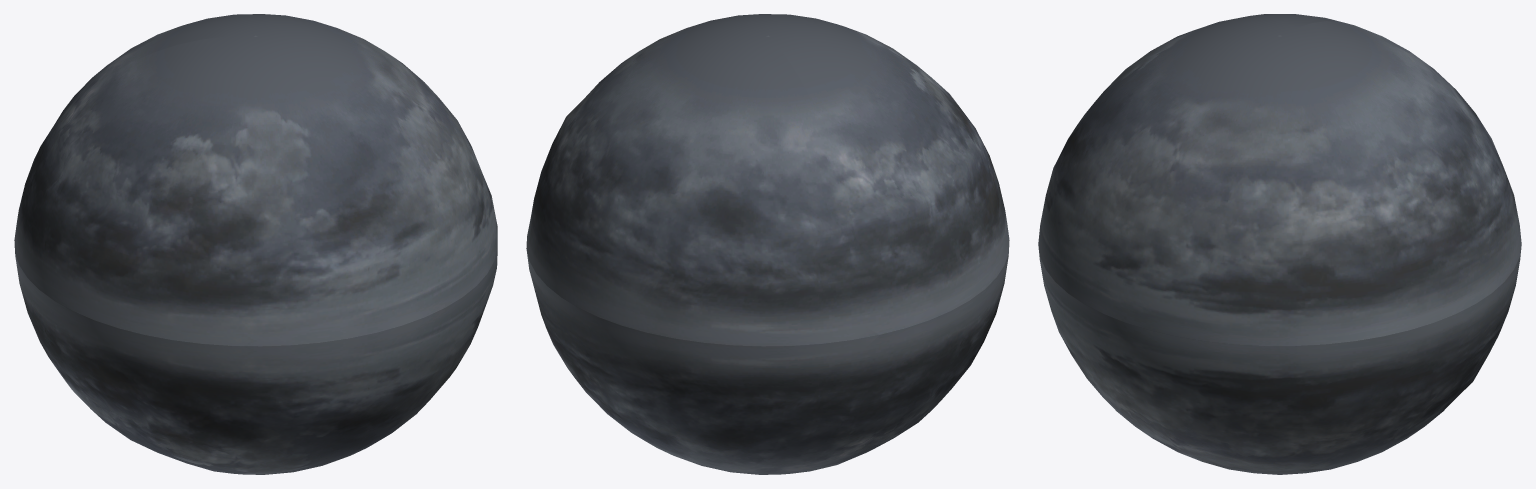
File: SkySphere.obj
The picture shows the model from 3 angles, left to right: view 1: azimuth 30°, elevation 25°; view 2: azimuth 150°, elevation 25°; view 3: azimuth 270°, elevation 25°; orthographic projection.
Size of the model in its own units: 31138 by 29645 by 31200.
Materials: 1 (1 with a texture image).
